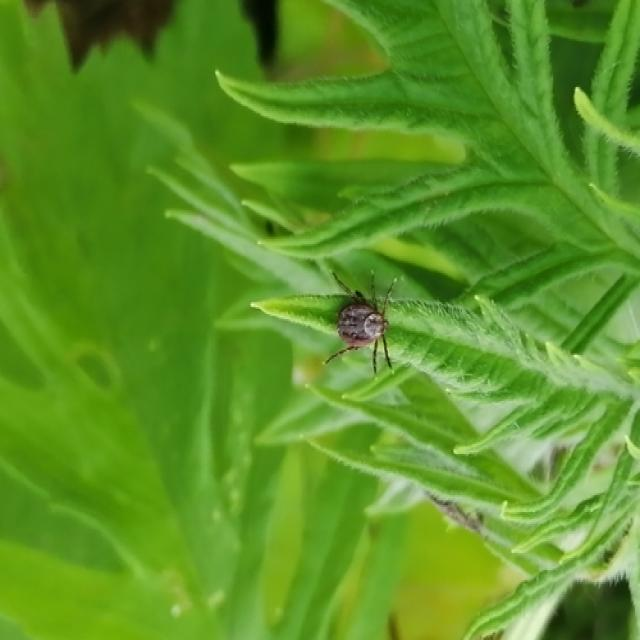Dermacentor Reticulatus-F: (325, 270, 397, 374)
